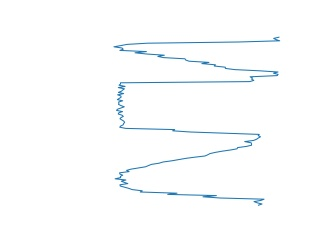distributaryChannelFill: (113, 72, 265, 141)
mouthBar: (110, 35, 283, 77)
underwaterDistributaryChannel: (113, 139, 268, 209)
